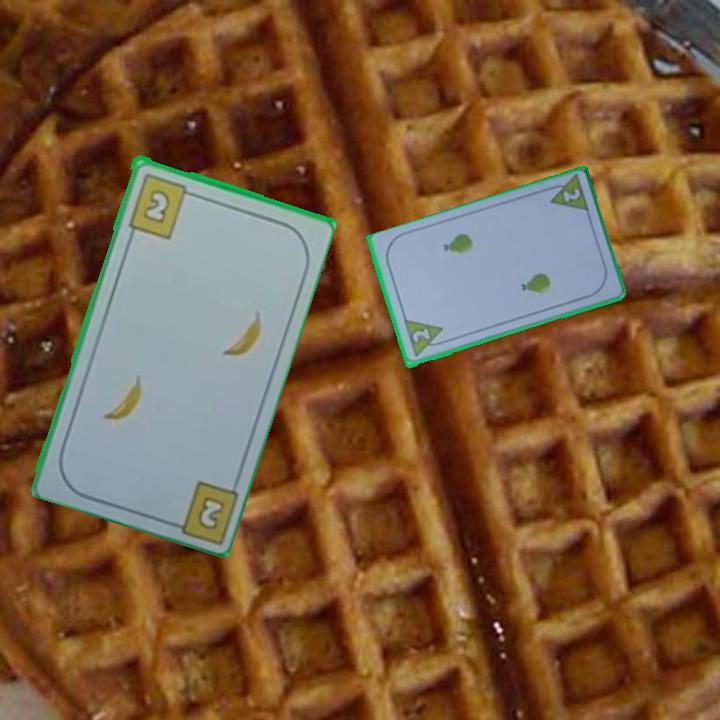2b: (161, 476, 240, 544), (124, 169, 198, 241)
2p: (400, 317, 449, 361), (559, 185, 583, 205)
